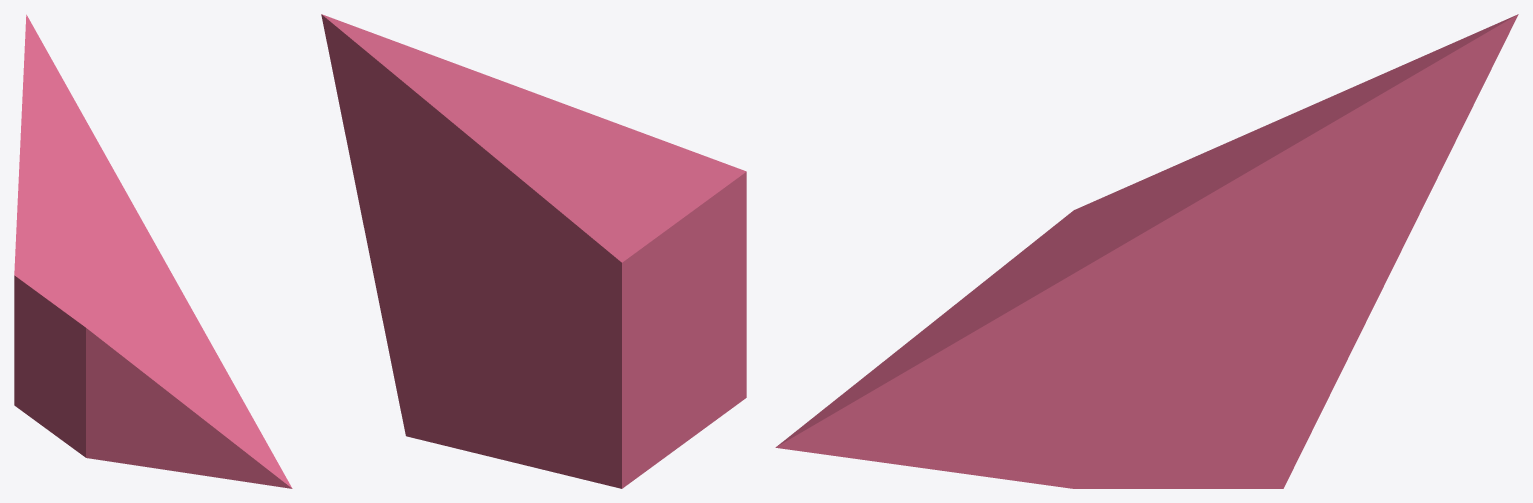
Rendered from icone5.glb.
The picture shows the model from 3 angles, left to right: view 1: azimuth 30°, elevation 25°; view 2: azimuth 150°, elevation 25°; view 3: azimuth 270°, elevation 25°; orthographic projection. The views are drawn at different scales.
Visible parts, largest first — view 1: Cube; view 2: Cube; view 3: Cube.
Part boxes in pixels (x1,y1,x2,y2): Cube: [14, 14, 292, 488]; Cube: [321, 14, 746, 488]; Cube: [775, 14, 1518, 488].
Bounding box in the file's own units: 2 × 4.76 × 7.09.
